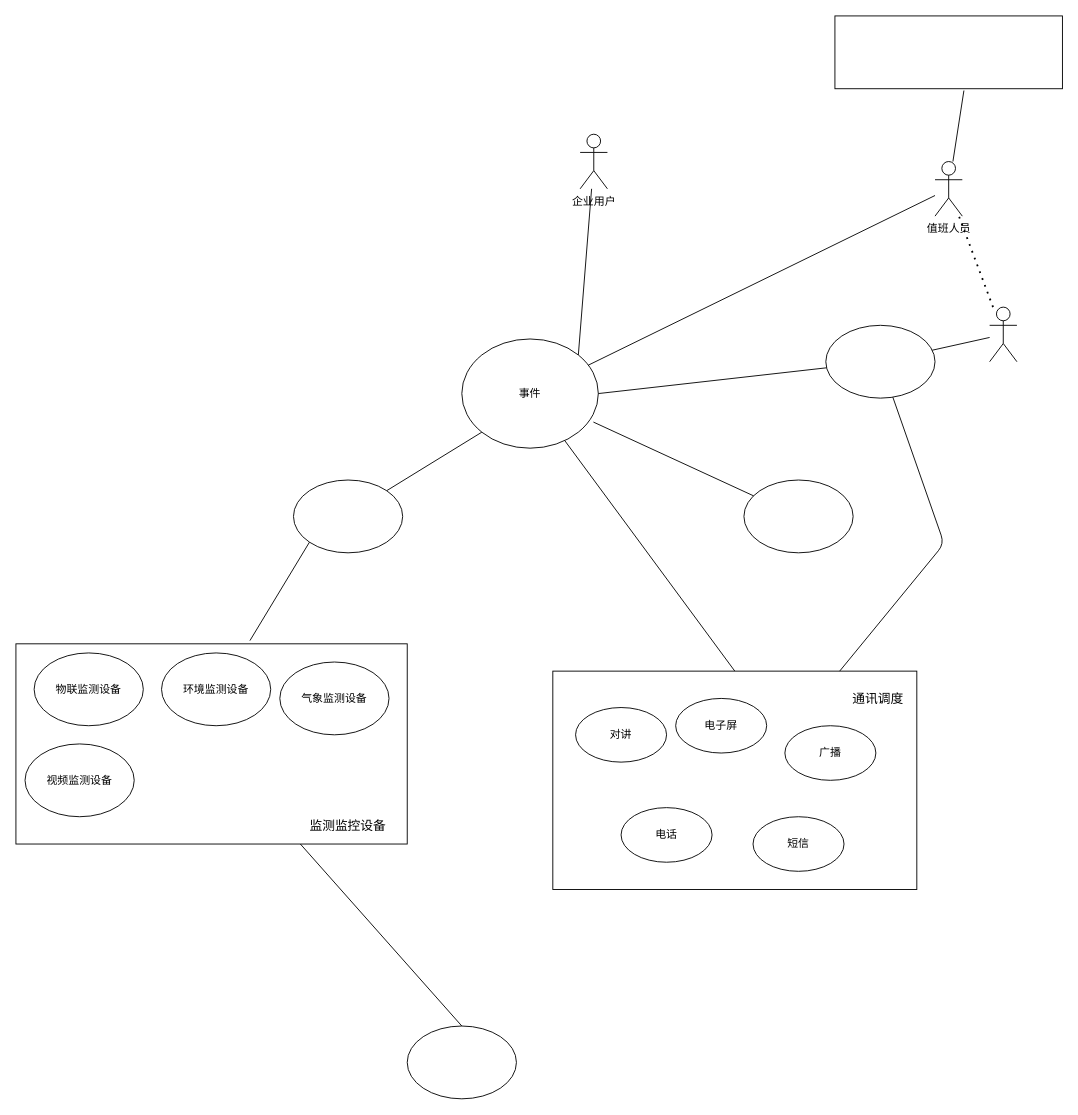
This 1078x1115 diagram has some shape labels left out. Each missing label, with the box of its shape:
值班排班: (834, 15, 1062, 89)
报警数据: (293, 479, 403, 553)
通讯录人员: (989, 306, 1017, 362)
通讯录机构: (825, 324, 935, 398)
附件: (743, 479, 853, 553)
预警发布: (406, 1025, 516, 1099)
